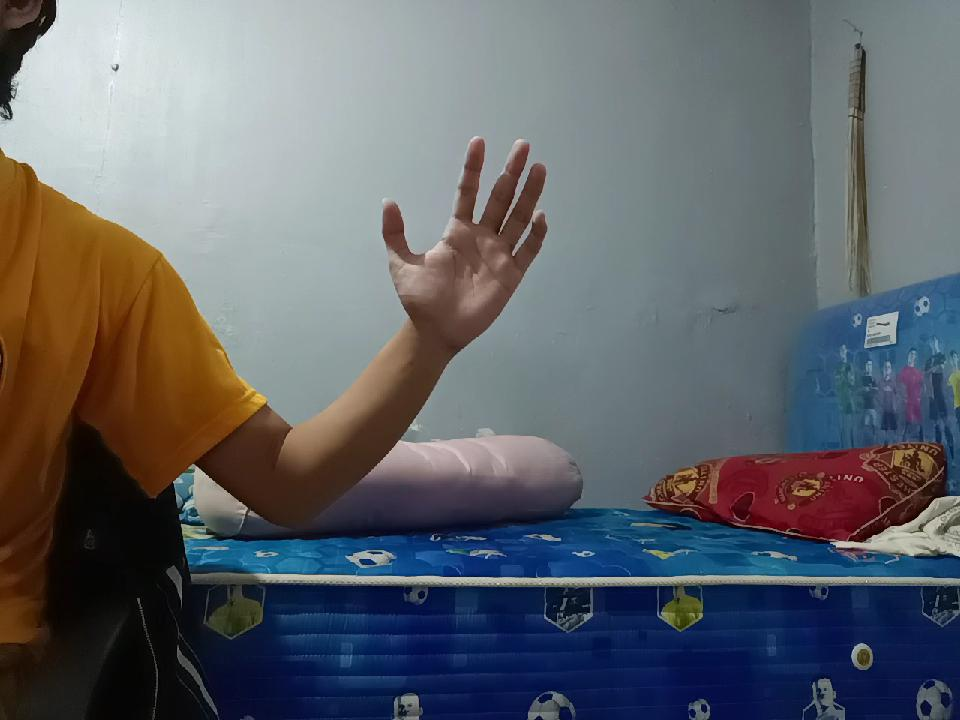paper: (377, 116, 559, 350)
